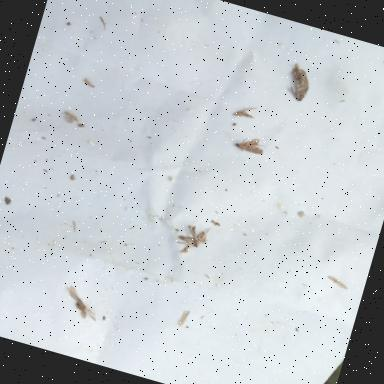pbw: (284, 63, 316, 104), (233, 134, 265, 158), (191, 226, 212, 252)
